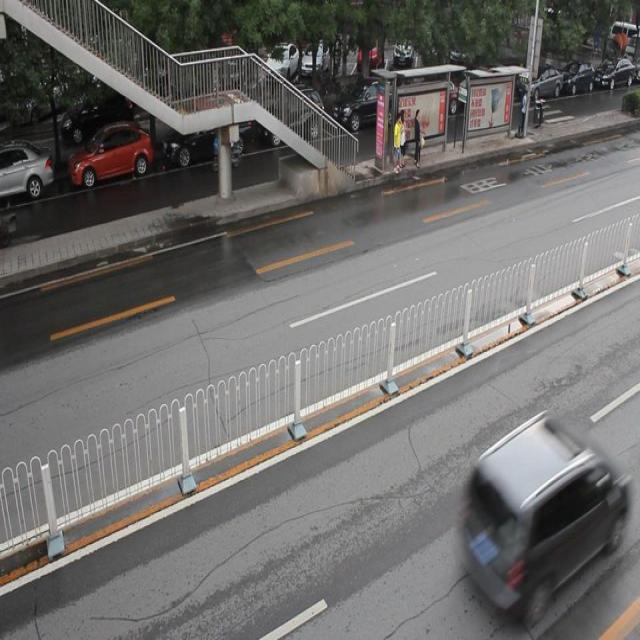car: (68, 123, 154, 188), (162, 110, 247, 169), (258, 88, 326, 150), (332, 75, 399, 134), (1, 143, 54, 202)
truck: (460, 410, 625, 614)
